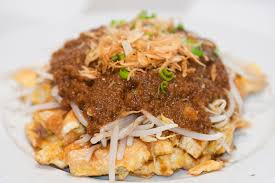Tahu telor: (26, 18, 249, 178)
